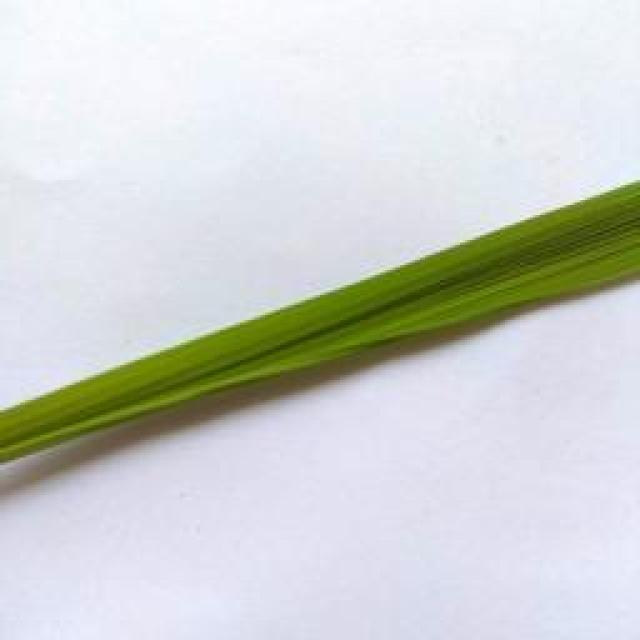Healthy-Plant: (0, 187, 640, 468)
